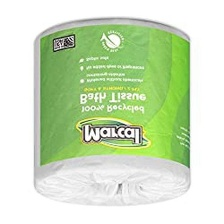tissue: (26, 11, 198, 212)
